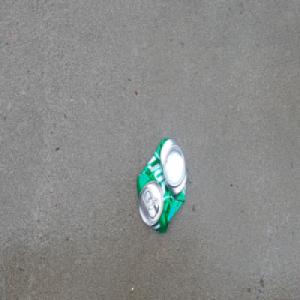SodaCan: (135, 136, 187, 236)
